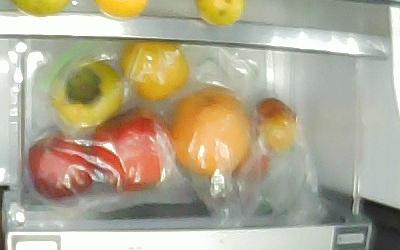apple_vinyl: (88, 106, 173, 192), (27, 131, 95, 200)
grapefruit_vinyl: (167, 84, 252, 175)
persimmon_vinyl: (47, 55, 124, 128), (118, 39, 191, 101)
prune_vinyl: (253, 98, 298, 153)
